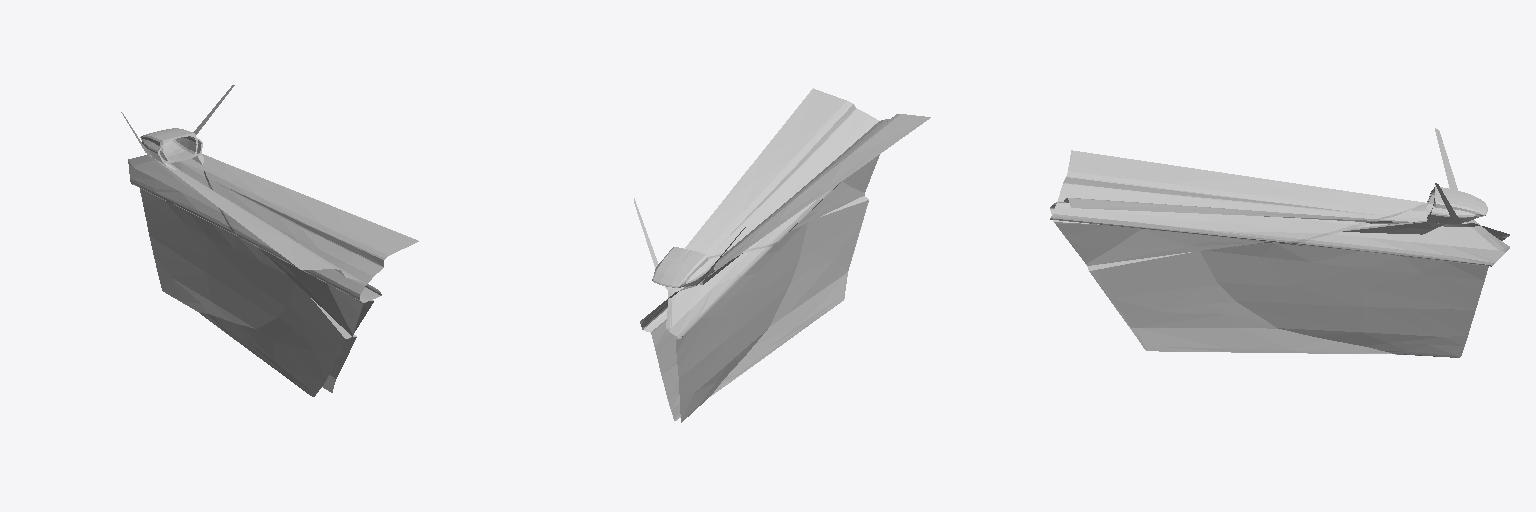
Rendered from zenldoormesh1.obj.
The picture shows the model from 3 angles: view 1: azimuth 30°, elevation 25°; view 2: azimuth 150°, elevation 25°; view 3: azimuth 270°, elevation 25°; orthographic projection.
Parts seen in each view (by area): view 1: zenldoormesh1, zenrdoomesh1; view 2: zenldoormesh1, zenrdoomesh1; view 3: zenrdoomesh1, zenldoormesh1.
Boxes of the visible parts, x1=… form: zenldoormesh1: x1=128, y1=85, x2=418, y2=392; zenrdoomesh1: x1=121, y1=112, x2=381, y2=396; zenldoormesh1: x1=634, y1=88, x2=878, y2=422; zenrdoomesh1: x1=640, y1=114, x2=930, y2=420; zenrdoomesh1: x1=1050, y1=128, x2=1509, y2=357; zenldoormesh1: x1=1050, y1=183, x2=1509, y2=354.
Size of the model in its own units: 4.1 by 6.64 by 13.76.